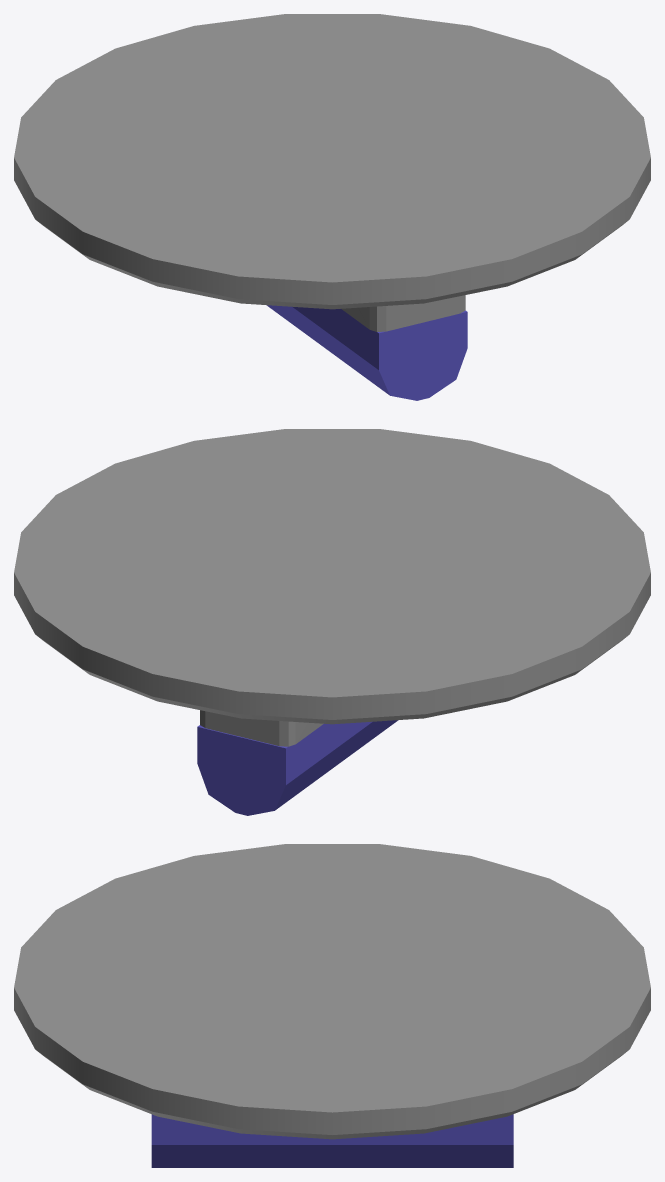
The model's file is Fire_alarm.FBX.
3 views of the same model, one above another, from view 1: azimuth 30°, elevation 25°; view 2: azimuth 150°, elevation 25°; view 3: azimuth 270°, elevation 25° (orthographic).
Parts seen in each view (by area): view 1: Fire_strobe; view 2: Fire_strobe; view 3: Fire_strobe.
Part boxes in pixels (box(x1,y1,x2,y2)): Fire_strobe: box(14, 14, 650, 400); Fire_strobe: box(14, 429, 650, 815); Fire_strobe: box(14, 844, 650, 1167).
Bounding box in the file's own units: 18.31 × 5.91 × 18.36.
